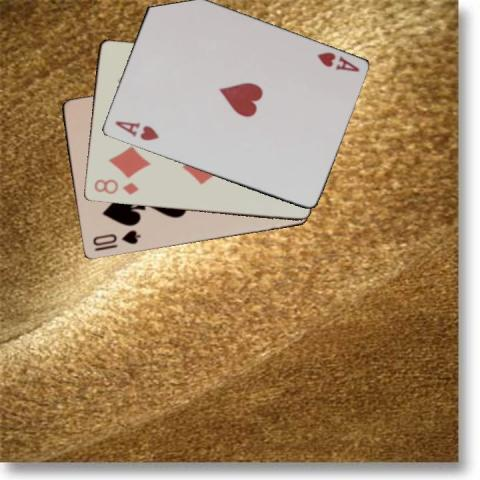10s: (89, 228, 141, 248)
8d: (91, 176, 140, 196)
Ah: (111, 118, 160, 143), (314, 49, 361, 74)
